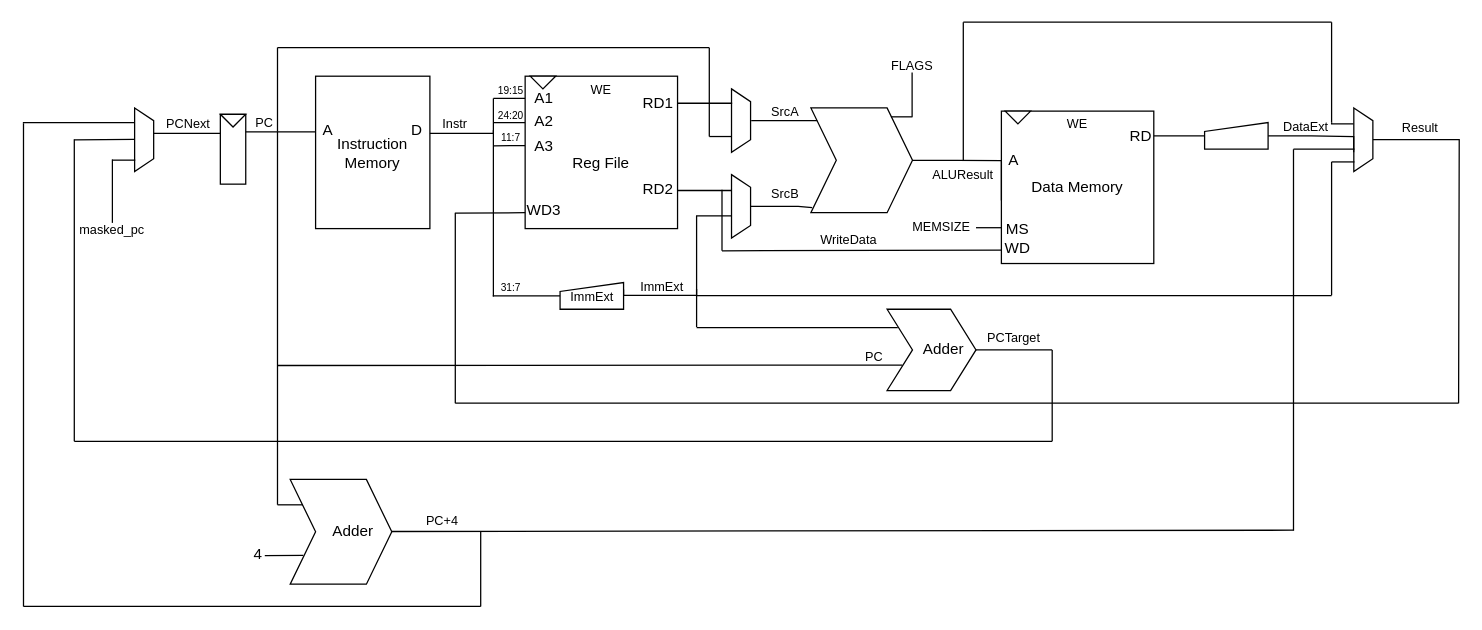
Image size: 1482x630. Some labels were removed from this diagram. Here are the shapes that lost their labels. From the top down, the centre of each, then its label:
point 1235,135: LoadExt
point 861,160: ALU
